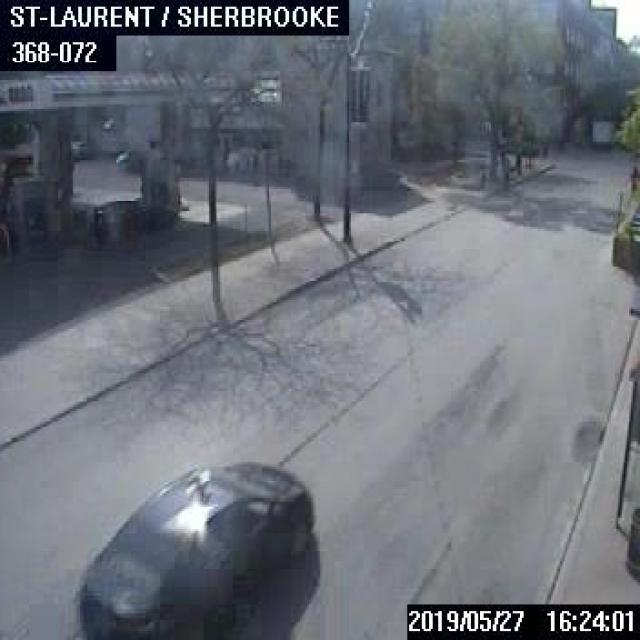vehicle: (71, 456, 313, 638), (67, 139, 85, 159), (114, 147, 129, 167)
